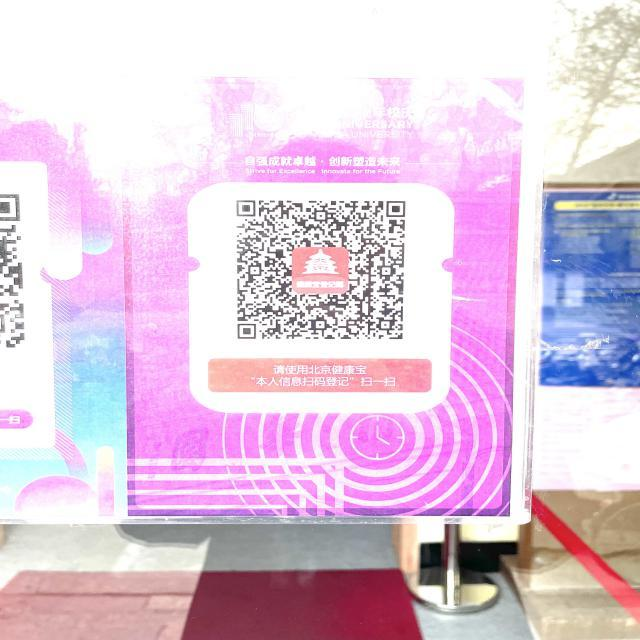qr_code: (236, 200, 404, 340)
